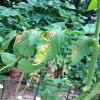Tomato Septoria leaf spot: (32, 30, 66, 65), (69, 34, 90, 65), (30, 30, 39, 48)
Tomato leaf: (0, 50, 16, 68)
